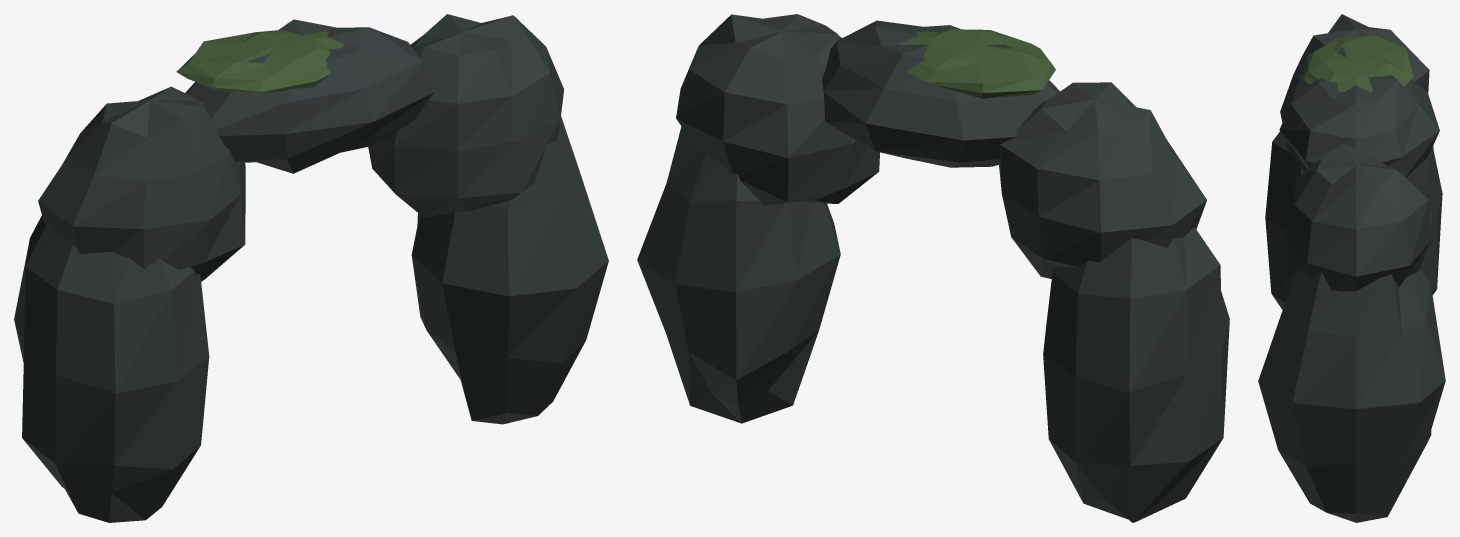
Rendered from StoneArch.fbx.
3 renders of one model, left to right at view 1: azimuth 30°, elevation 25°; view 2: azimuth 150°, elevation 25°; view 3: azimuth 270°, elevation 25°, orthographic. The views are drawn at different scales.
Visible parts, largest first — view 1: StoneArch; view 2: StoneArch; view 3: StoneArch.
Part boxes in pixels (box(x1,y1,x2,y2)): StoneArch: box(14, 14, 608, 522); StoneArch: box(637, 14, 1229, 522); StoneArch: box(1258, 14, 1445, 522).
Bounding box in the file's own units: 473 × 360 × 165.
